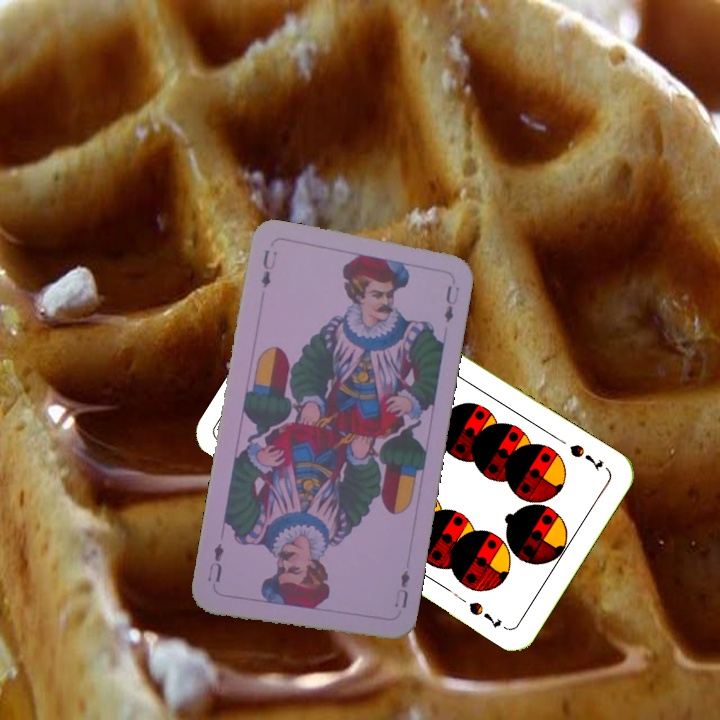EU: (256, 245, 279, 291), (390, 566, 413, 611)
S7: (565, 440, 606, 473)
